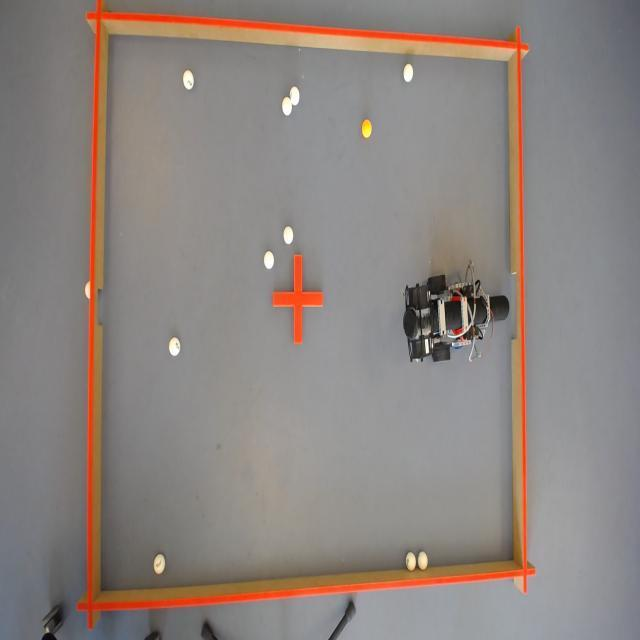orange: (361, 118, 374, 140)
robot: (397, 271, 505, 364)
white: (182, 68, 196, 91), (153, 551, 165, 574), (168, 336, 180, 356), (263, 251, 275, 271), (282, 224, 294, 244), (280, 94, 291, 115), (404, 552, 416, 571), (417, 551, 429, 570), (290, 84, 300, 105), (404, 62, 414, 81)
